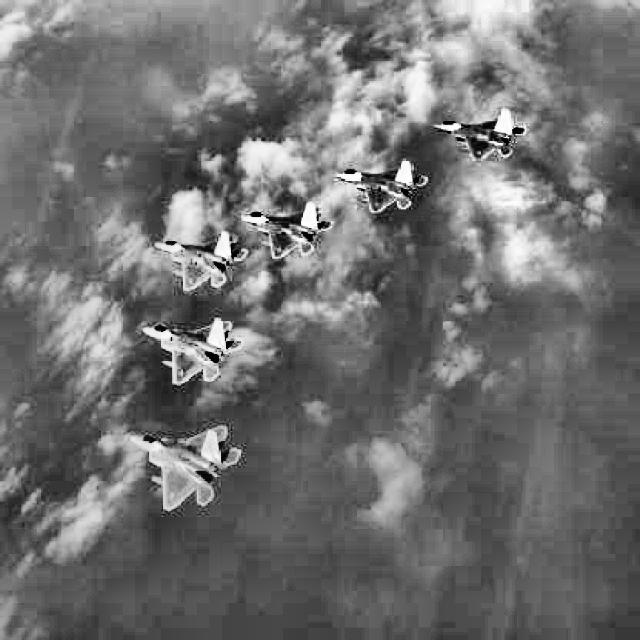F22: (130, 426, 241, 512), (144, 318, 244, 385), (154, 230, 249, 292), (239, 202, 333, 260), (333, 159, 429, 213), (431, 108, 526, 162)
